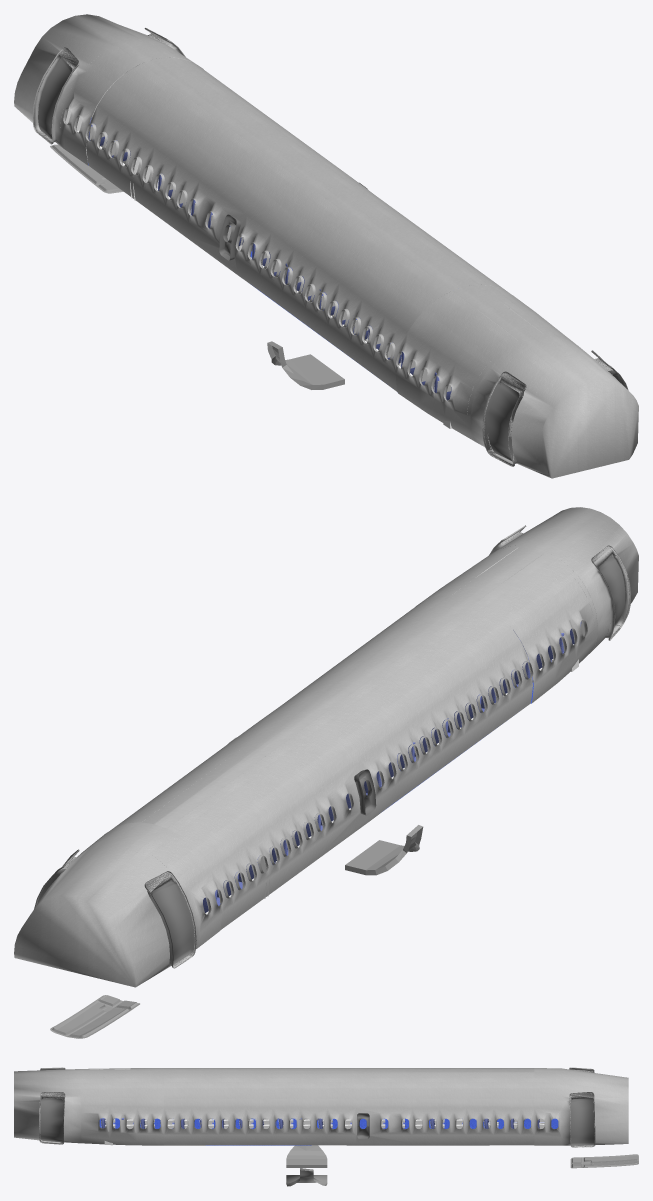
The picture shows the model from 3 angles, top to bottom: view 1: azimuth 30°, elevation 25°; view 2: azimuth 150°, elevation 25°; view 3: azimuth 270°, elevation 25°; orthographic projection. The views are drawn at different scales.
Visible parts, largest first — view 1: static-material-2, static-material-3, static-material-5, static-material-6, static-material-7, static-material-0; view 2: static-material-2, static-material-3, static-material-5, static-material-6; view 3: static-material-2, static-material-3, static-material-5, static-material-0, static-material-4, static-material-6.
Boxes of the visible parts, x1=… form: static-material-2: x1=14, y1=14, x2=638, y2=478; static-material-3: x1=34, y1=28, x2=627, y2=466; static-material-5: x1=50, y1=144, x2=344, y2=389; static-material-6: x1=88, y1=117, x2=451, y2=400; static-material-7: x1=89, y1=126, x2=451, y2=391; static-material-0: x1=60, y1=56, x2=490, y2=428; static-material-2: x1=14, y1=507, x2=638, y2=987; static-material-3: x1=34, y1=525, x2=629, y2=968; static-material-5: x1=50, y1=825, x2=423, y2=1038; static-material-6: x1=203, y1=621, x2=581, y2=912; static-material-2: x1=14, y1=1067, x2=628, y2=1147; static-material-3: x1=39, y1=1068, x2=595, y2=1147; static-material-5: x1=286, y1=1145, x2=638, y2=1186; static-material-0: x1=104, y1=1118, x2=544, y2=1145; static-material-4: x1=99, y1=1118, x2=558, y2=1145; static-material-6: x1=101, y1=1118, x2=544, y2=1128.
Bounding box in the file's own units: 3.95 × 4.36 × 24.53.
Materials: 8 (4 with a texture image).
